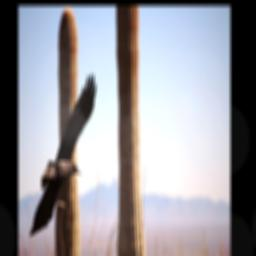Crow: (28, 71, 98, 240)
